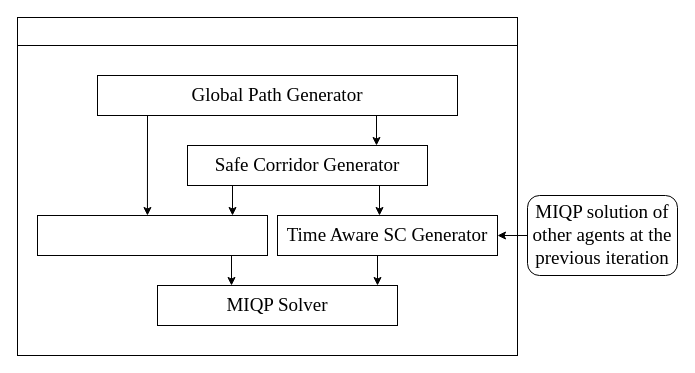
This 695x373 diagram has some shape labels left out. Here are the shapes that lost their labels. From the top down, the box of each, then its label:
(16, 16, 518, 46): Planning (run at an adaptive frequency)
(36, 214, 268, 256): Local Reference Generator
